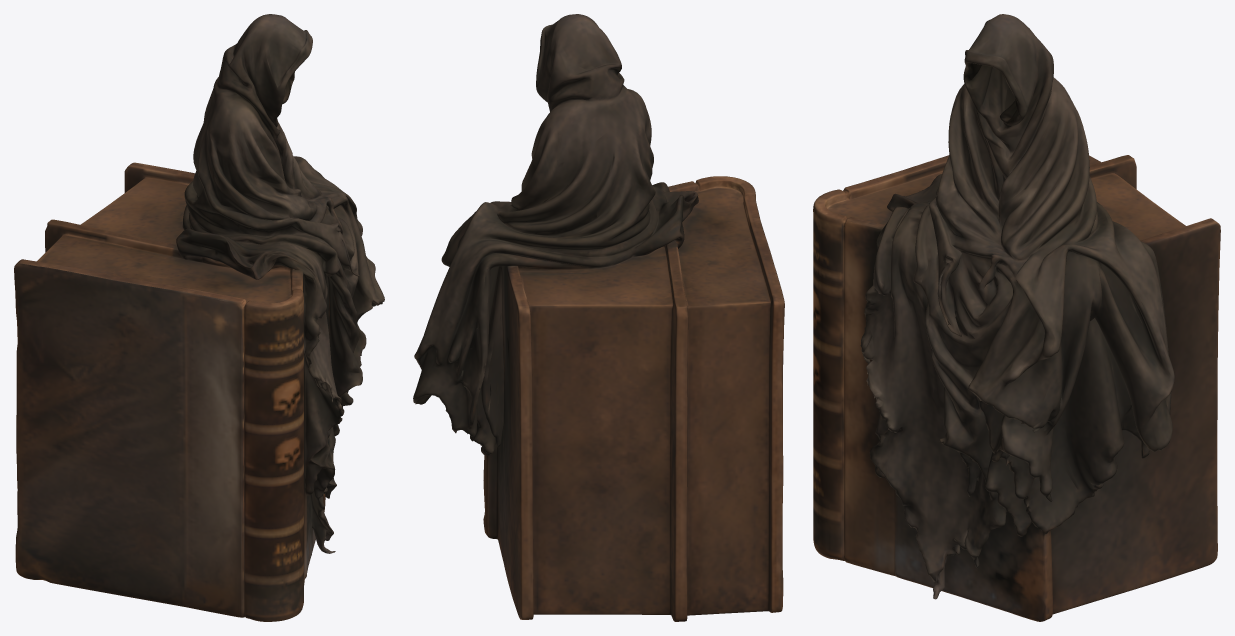
Rendered from dark-hut.glb.
The picture shows the model from 3 angles, left to right: view 1: azimuth 30°, elevation 25°; view 2: azimuth 150°, elevation 25°; view 3: azimuth 270°, elevation 25°; orthographic projection. The views are drawn at different scales.
Parts seen in each view (by area): view 1: material; view 2: material; view 3: material.
Boxes of the visible parts, <box> form: material: <box>14,14,384,621</box>; material: <box>413,14,784,621</box>; material: <box>813,14,1220,621</box>.
Size of the model in its own units: 0.6861 by 0.993 by 0.6469.
Materials: 1 (1 with a texture image).
